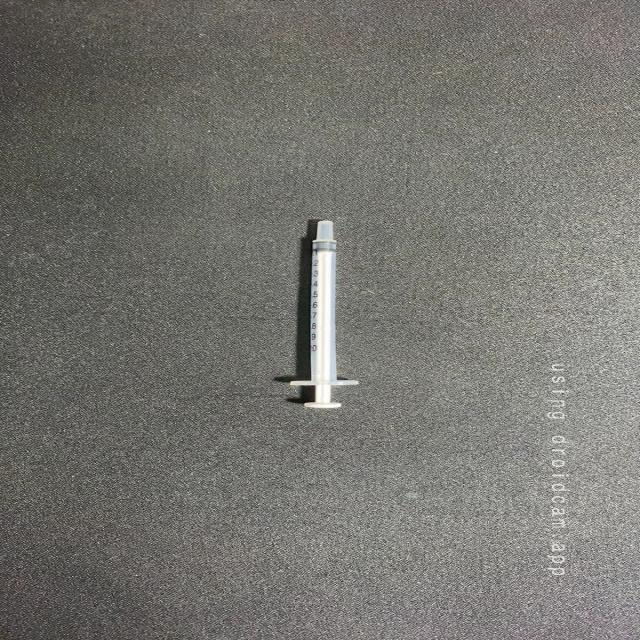syringe: (256, 202, 396, 426)
